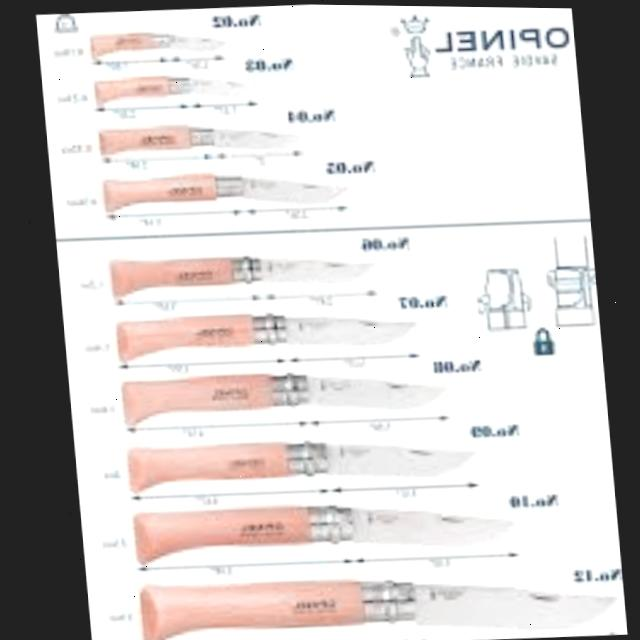Knife: (125, 558, 620, 640), (128, 490, 514, 569), (122, 426, 478, 494), (114, 359, 451, 426), (109, 300, 419, 363), (107, 245, 379, 300), (101, 162, 350, 216), (113, 281, 379, 314), (97, 115, 301, 155), (106, 197, 350, 226), (93, 68, 256, 105), (90, 25, 231, 57), (95, 95, 260, 116)
